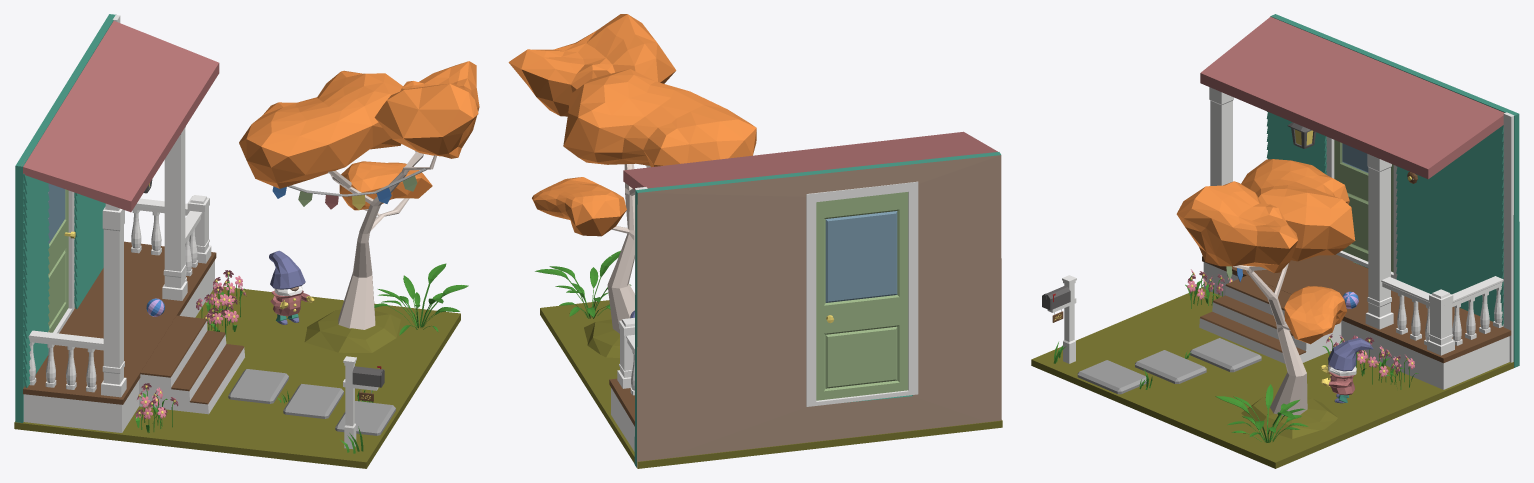
File: Room_12_Front_Yard.fbx
3 renders of one model, left to right at view 1: azimuth 30°, elevation 25°; view 2: azimuth 150°, elevation 25°; view 3: azimuth 270°, elevation 25°, orthographic. The views are drawn at different scales.
Visible parts, largest first — view 1: Room_12_Porch, Room_12_Base, Room_12_Tree, Room_12_Road, Room_12_Door, Room_12_Gnome, Room_12_Mailbox, Room_12_Shrub, Room_12_Flowers_2, Room_12_Flags, Room_12_Flowers_1; view 2: Room_12_Base, Room_12_Tree, Room_12_Door, Room_12_Porch, Room_12_Shrub; view 3: Room_12_Porch, Room_12_Base, Room_12_Tree, Room_12_Road, Room_12_Door, Room_12_Gnome, Room_12_Mailbox, Room_12_Shrub, Room_12_Flowers_2, Room_12_Flowers_1, Room_12_Lantern.
Boxes of the visible parts, x1,y1,x2,y2 form: Room_12_Porch: (22, 21, 244, 432); Room_12_Base: (14, 14, 460, 468); Room_12_Tree: (239, 61, 479, 329); Room_12_Road: (228, 369, 395, 435); Room_12_Door: (48, 183, 75, 333); Room_12_Gnome: (269, 250, 314, 324); Room_12_Mailbox: (343, 356, 384, 448); Room_12_Shrub: (374, 263, 468, 335); Room_12_Flowers_2: (196, 270, 246, 338); Room_12_Flags: (272, 168, 426, 210); Room_12_Flowers_1: (135, 383, 178, 432); Room_12_Base: (540, 152, 1002, 468); Room_12_Tree: (508, 14, 756, 333); Room_12_Door: (806, 181, 918, 406); Room_12_Porch: (609, 131, 997, 451); Room_12_Shrub: (535, 250, 631, 318); Room_12_Porch: (1199, 16, 1511, 389); Room_12_Base: (1031, 14, 1519, 468); Room_12_Tree: (1176, 159, 1355, 416); Room_12_Road: (1077, 338, 1261, 394); Room_12_Door: (1326, 137, 1397, 279); Room_12_Gnome: (1320, 338, 1373, 403); Room_12_Mailbox: (1042, 275, 1076, 363); Room_12_Shrub: (1215, 384, 1308, 442); Room_12_Flowers_2: (1322, 334, 1418, 389); Room_12_Flowers_1: (1185, 269, 1232, 308); Room_12_Lantern: (1287, 122, 1316, 148).
Size of the model in its own units: 744 by 707 by 417.
